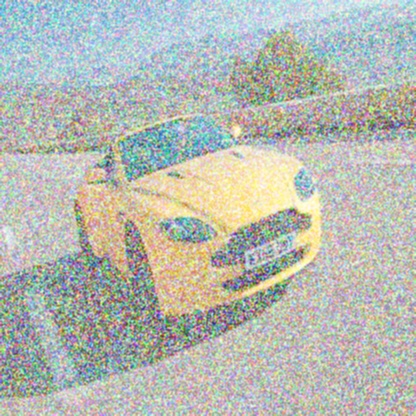Vehicle: (74, 112, 322, 332)
